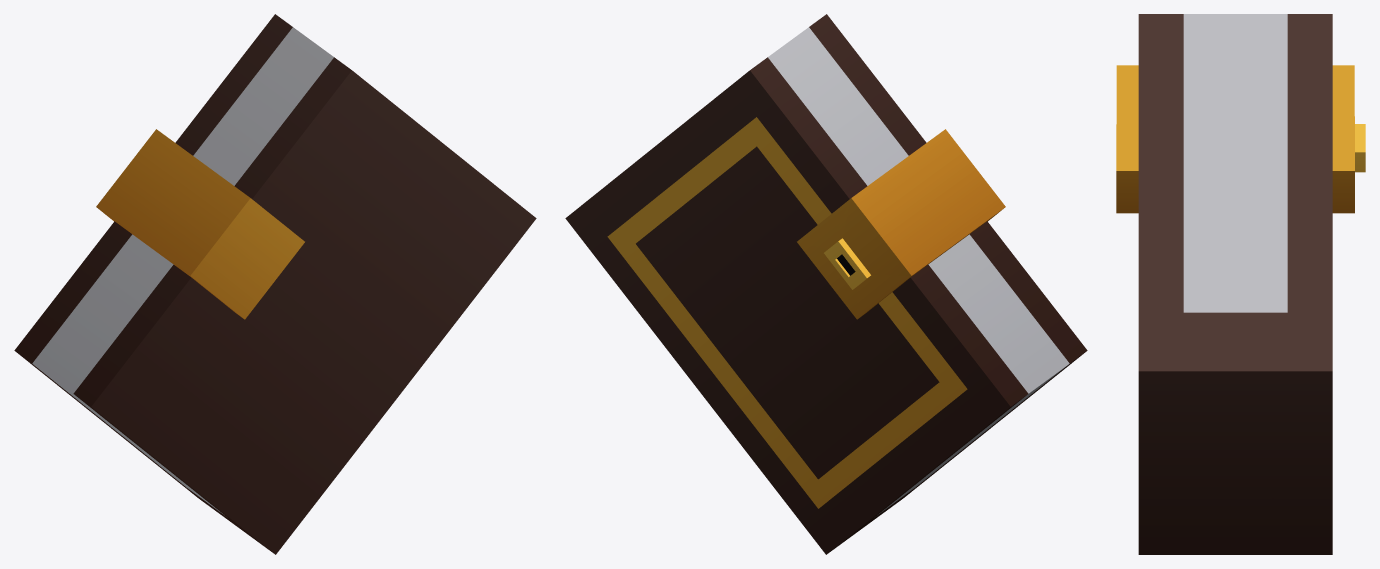
File: Spellbook 01.FBX
The picture shows the model from 3 angles, left to right: view 1: azimuth 30°, elevation 25°; view 2: azimuth 150°, elevation 25°; view 3: azimuth 270°, elevation 25°; orthographic projection. The views are drawn at different scales.
Visible parts, largest first — view 1: Spellbook 01; view 2: Spellbook 01; view 3: Spellbook 01.
Boxes of the visible parts, x1=… form: Spellbook 01: x1=14, y1=14, x2=536, y2=554; Spellbook 01: x1=565, y1=14, x2=1087, y2=554; Spellbook 01: x1=1116, y1=14, x2=1365, y2=554.
Bounding box in the file's own units: 50.73 × 50.73 × 19.5.
Materials: 1 (1 with a texture image).
